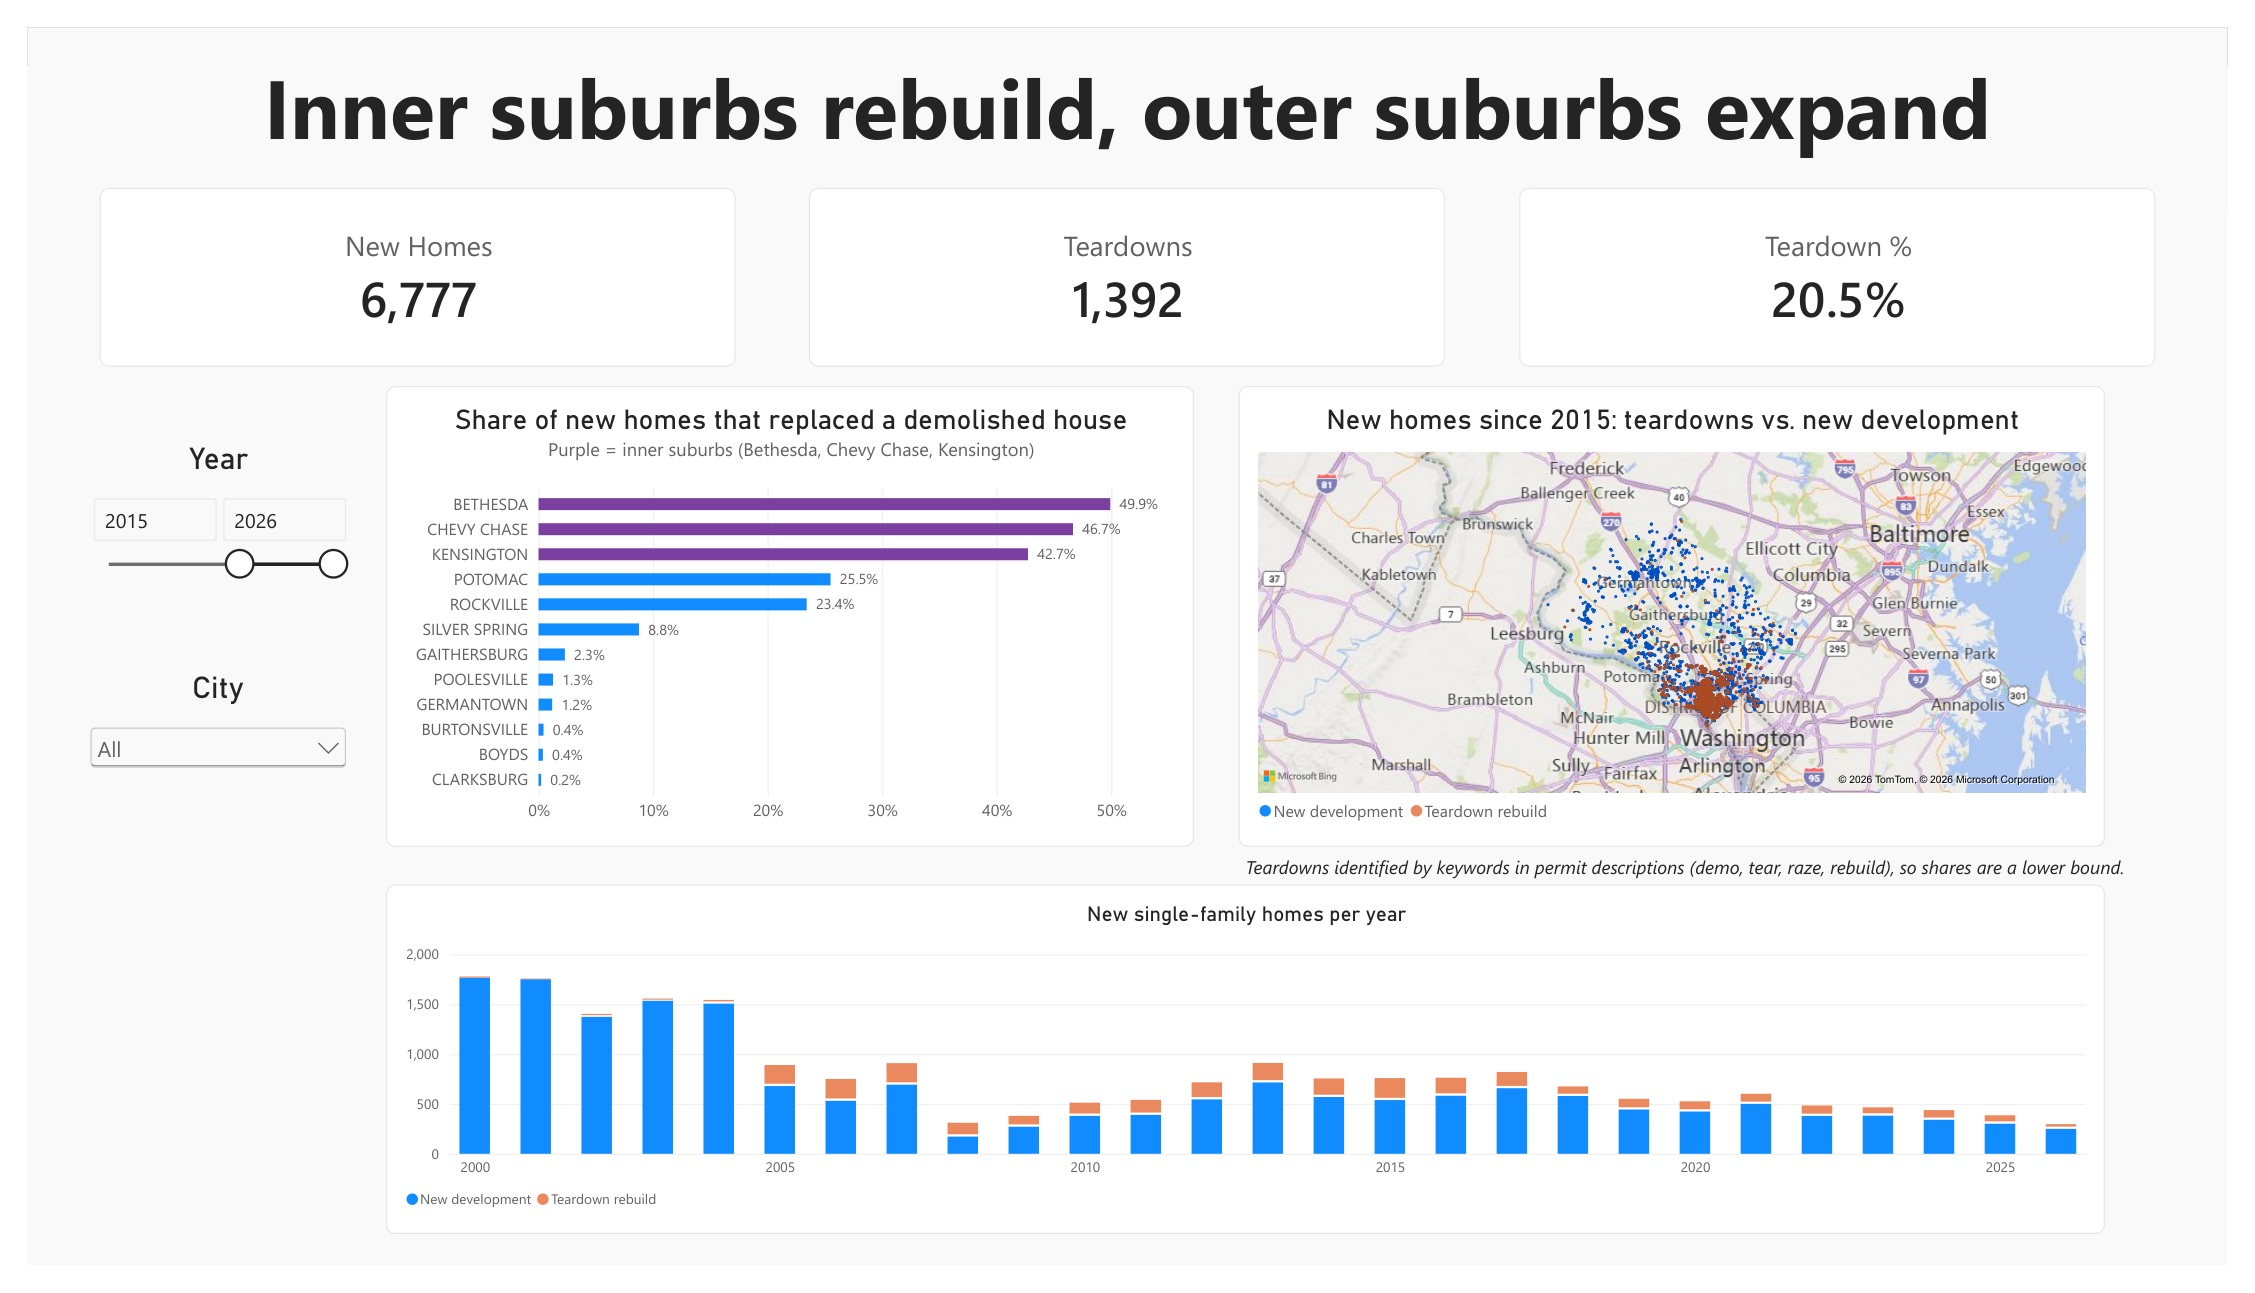

What the dashboard file says about the page in this screenshot:
{"tool":"powerbi","page":{"name":"Two Ways Of Growing","canvas":[1920,1080],"ordinal":2},"visuals":[{"type":"textbox","box":[30,0,1860,280],"z":0},{"type":"slicer","title":"Year","fields":{"Values":["permits_dashboard.year_added"]},"box":[50,360,233.3,145],"z":1000},{"type":"slicer","title":"City","fields":{"Values":["permits_dashboard.city"]},"box":[50,560,233.3,123.3],"z":2000},{"type":"cardVisual","title":"Permits","fields":{"Data":["permits_dashboard.New Homes Label"]},"box":[63.3,140,555,156.7],"z":3000},{"type":"cardVisual","fields":{"Data":["permits_dashboard.Teardowns Label"]},"box":[681.7,140,555,156.7],"z":4000},{"type":"cardVisual","fields":{"Data":["permits_dashboard.Teardown %"]},"box":[1301.7,140,555,156.7],"z":5000},{"type":"clusteredBarChart","title":"Share of new homes that replaced a demolished house","fields":{"Category":["permits_dashboard.city"],"Y":["permits_dashboard.Teardown %"]},"box":[313.3,313.3,705,401.7],"z":6000},{"type":"map","title":"New homes since 2015: teardowns vs. new development","fields":{"Series":["permits_dashboard.Home Type"],"X":["permits_dashboard.longitude"],"Y":["permits_dashboard.latitude"]},"box":[1056.7,313.3,756.7,401.7],"z":6001},{"type":"columnChart","title":"New single-family homes per year","fields":{"Category":["permits_dashboard.year_added"],"Series":["permits_dashboard.Home Type"],"Y":["permits_dashboard.New Homes"]},"box":[313.3,748.3,1500,305],"z":6002},{"type":"textbox","box":[1063.3,721.7,775,51.7],"z":6003}]}

Visuals, with their boxes in screenshot pixels (x1, y1, x2, y2), scaled from the page's 1920x1080 canvas onto the 2255x1293 screenshot:
textbox: <bbox>35, 0, 2220, 335</bbox>
"Year" slicer: <bbox>59, 431, 333, 605</bbox>
"City" slicer: <bbox>59, 670, 333, 818</bbox>
"Permits" cardVisual: <bbox>74, 168, 726, 355</bbox>
cardVisual - permits_dashboard.Teardowns Label: <bbox>801, 168, 1452, 355</bbox>
cardVisual - permits_dashboard.Teardown %: <bbox>1529, 168, 2181, 355</bbox>
"Share of new homes that replaced a demolished house" clusteredBarChart: <bbox>368, 375, 1196, 856</bbox>
"New homes since 2015: teardowns vs. new development" map: <bbox>1241, 375, 2130, 856</bbox>
"New single-family homes per year" columnChart: <bbox>368, 896, 2130, 1261</bbox>
textbox: <bbox>1249, 864, 2159, 926</bbox>
